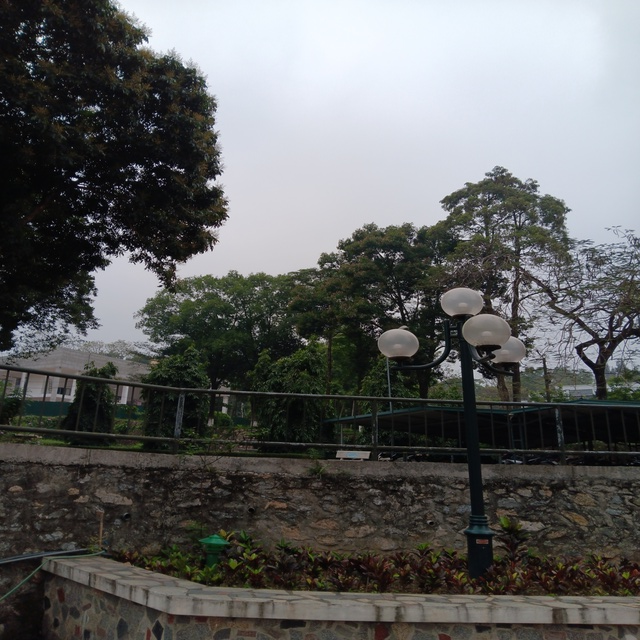cotden: (375, 284, 556, 590)
